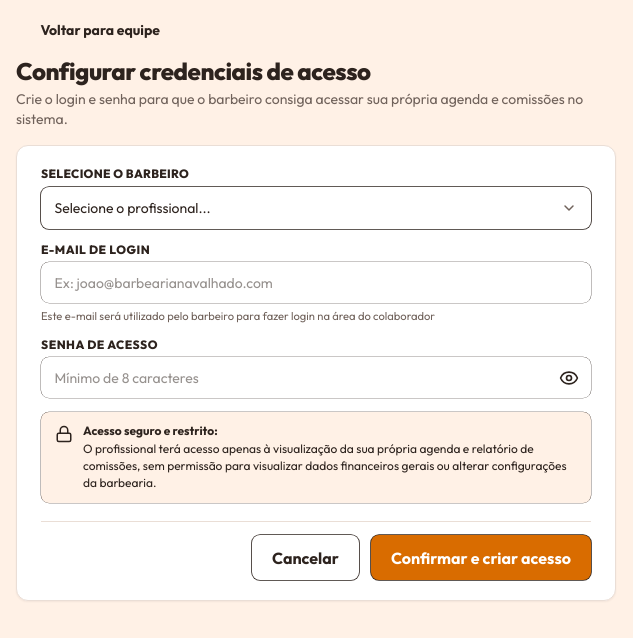
Test: CadastroAcesso › sugere a correção de domínio digitado errado no e-mail de login e aplica ao clicar
The width and height of the screenshot is (633, 638).
In the field labelled "E-mail de login": (316, 283) x1=41 y1=262 x2=591 y2=303, type "carlos@gmial.com"
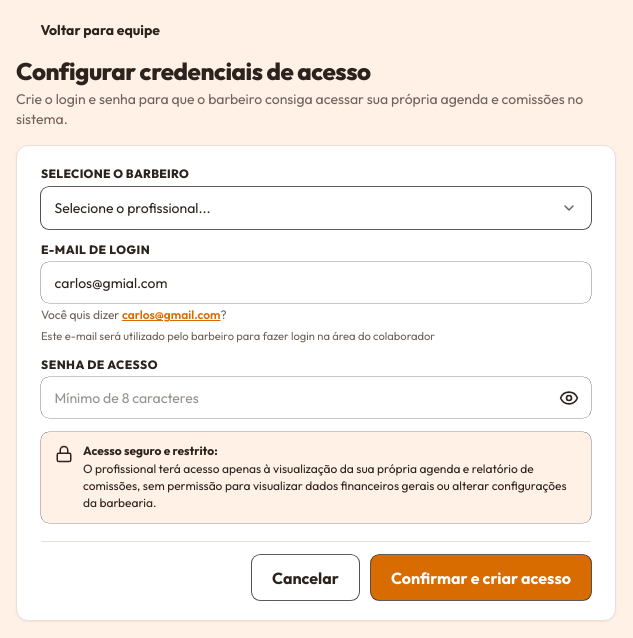
Click the button "carlos@gmail.com": (171, 315) x1=122 y1=307 x2=220 y2=323
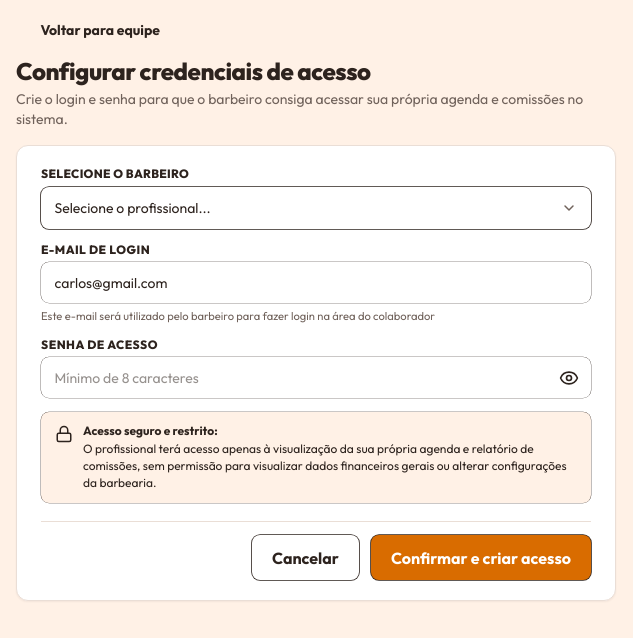
Expected: the field labelled "E-mail de login" holds "carlos@gmail.com", x1=41 y1=262 x2=591 y2=303
